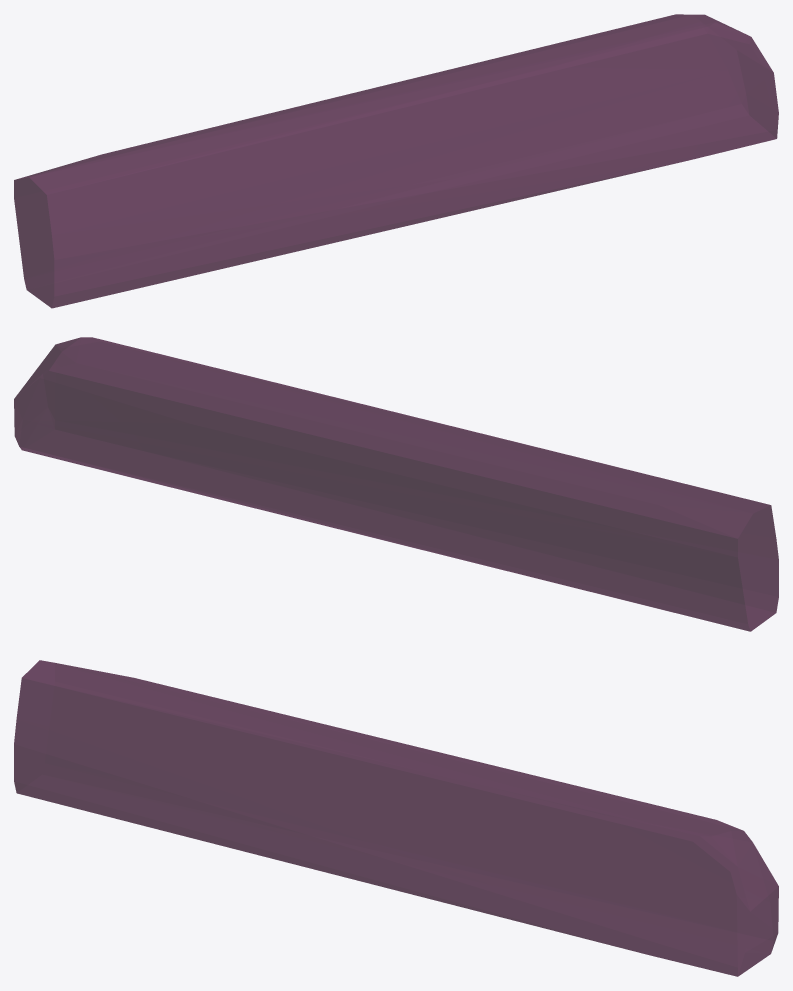
The picture shows the model from 3 angles, top to bottom: view 1: azimuth 30°, elevation 25°; view 2: azimuth 150°, elevation 25°; view 3: azimuth 330°, elevation 25°; orthographic projection.
Parts seen in each view (by area): view 1: Shape_IndexedFaceSet.009_Shape_IndexedFaceSet.4682; view 2: Shape_IndexedFaceSet.009_Shape_IndexedFaceSet.4682; view 3: Shape_IndexedFaceSet.009_Shape_IndexedFaceSet.4682.
Part boxes in pixels (x1,y1,x2,y2): Shape_IndexedFaceSet.009_Shape_IndexedFaceSet.4682: (14, 14, 778, 308); Shape_IndexedFaceSet.009_Shape_IndexedFaceSet.4682: (14, 337, 778, 631); Shape_IndexedFaceSet.009_Shape_IndexedFaceSet.4682: (14, 660, 778, 976).
Size of the model in its own units: 0.7261 by 0.11 by 0.0792.
